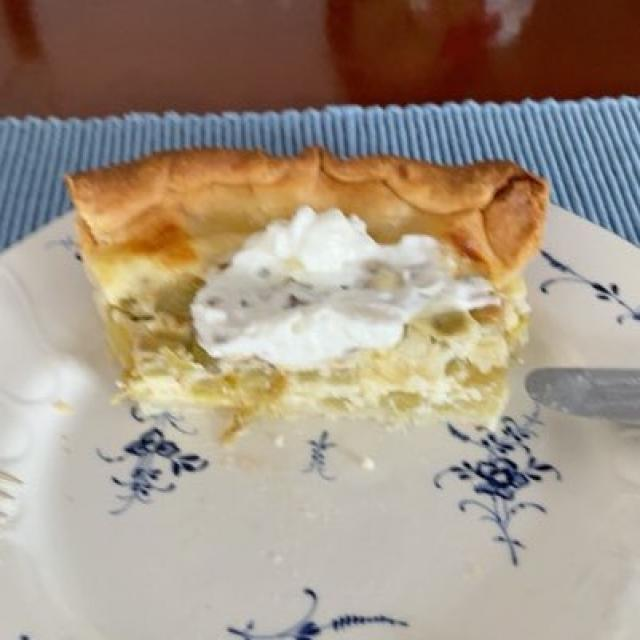pie: (74, 160, 554, 415)
